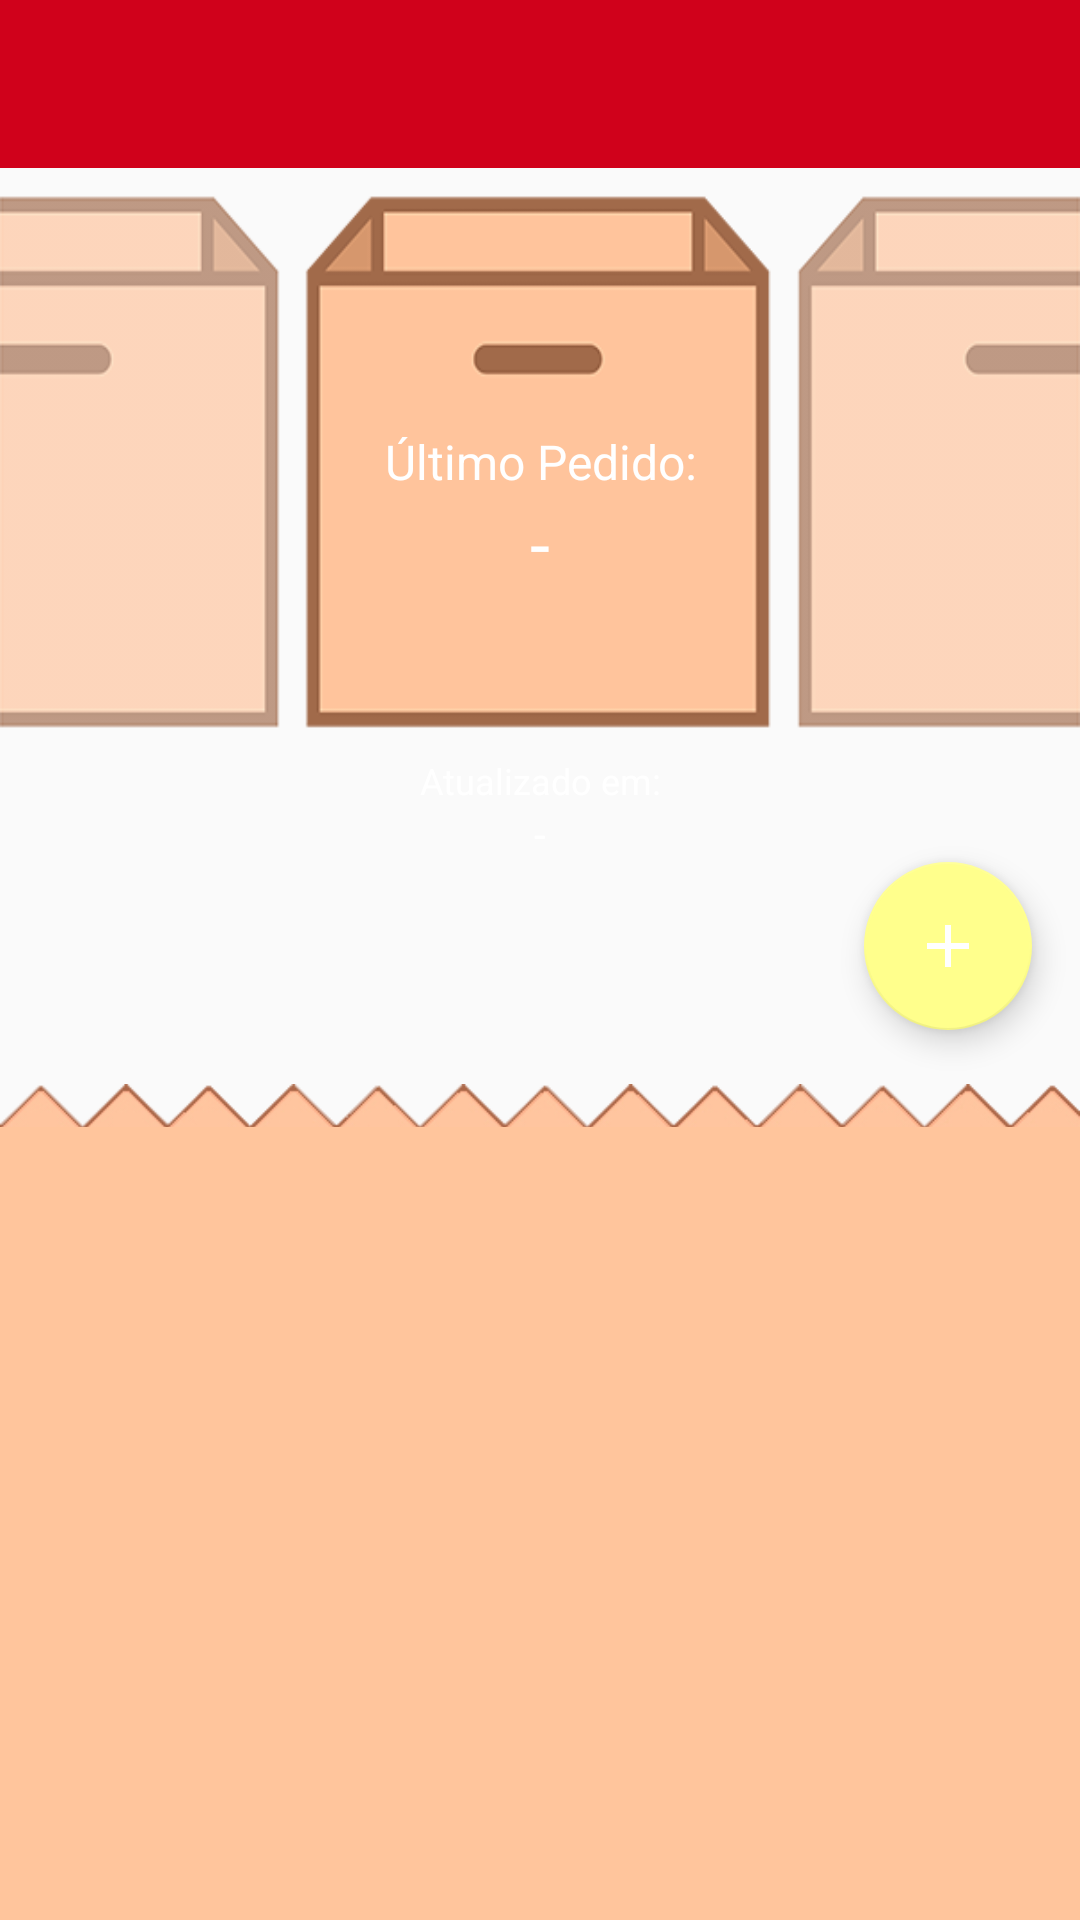

Point at icon controls on the screen. Image size 1080 × 1920, points as (x,y).
plus: (948,946)
